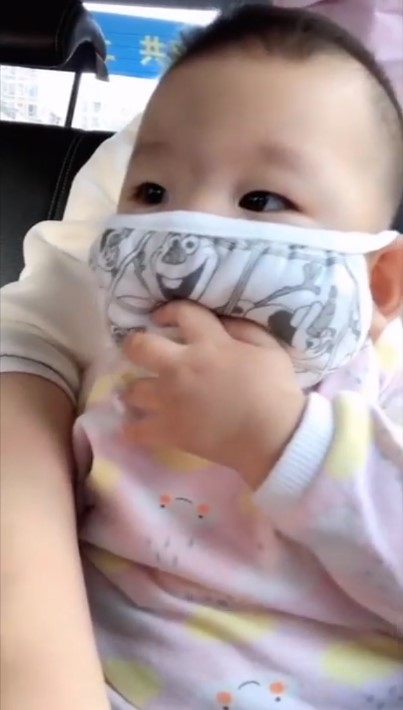face_with_mask: (94, 5, 403, 400)
